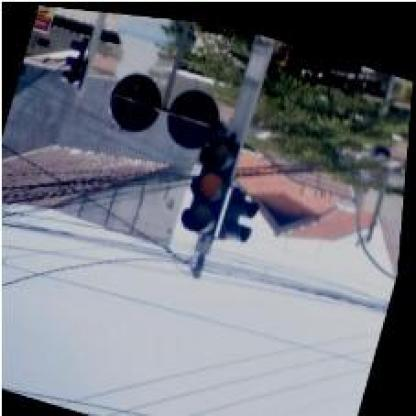yellow: (180, 124, 241, 235)
